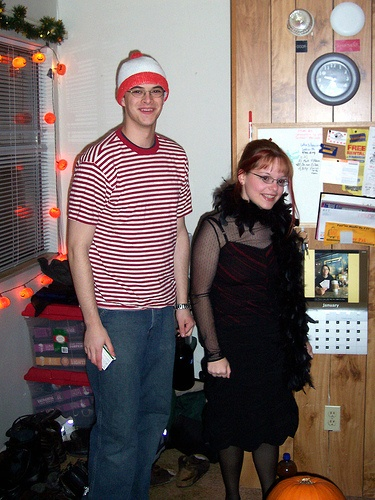head: (242, 141, 287, 213), (121, 58, 166, 128)
person: (64, 46, 197, 500), (184, 136, 316, 497)
